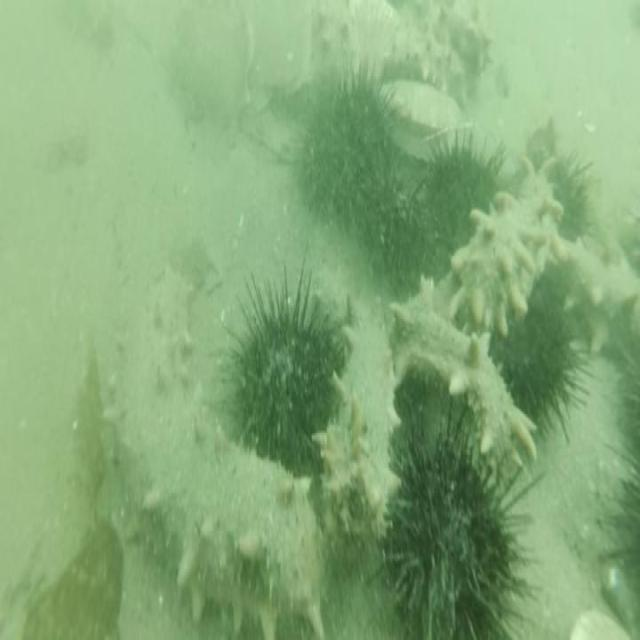echinus: (370, 384, 538, 640), (223, 256, 346, 465), (296, 70, 402, 226), (494, 286, 591, 447), (354, 171, 442, 294), (424, 123, 502, 253), (595, 453, 640, 610), (548, 147, 598, 243), (609, 348, 640, 463)
holothurian: (100, 259, 330, 640), (393, 274, 539, 472), (444, 147, 564, 322), (318, 292, 403, 538), (551, 230, 640, 374), (425, 0, 499, 82), (388, 21, 468, 93)
scallop: (170, 0, 258, 125), (378, 79, 468, 153), (248, 0, 313, 98), (346, 0, 406, 73)
